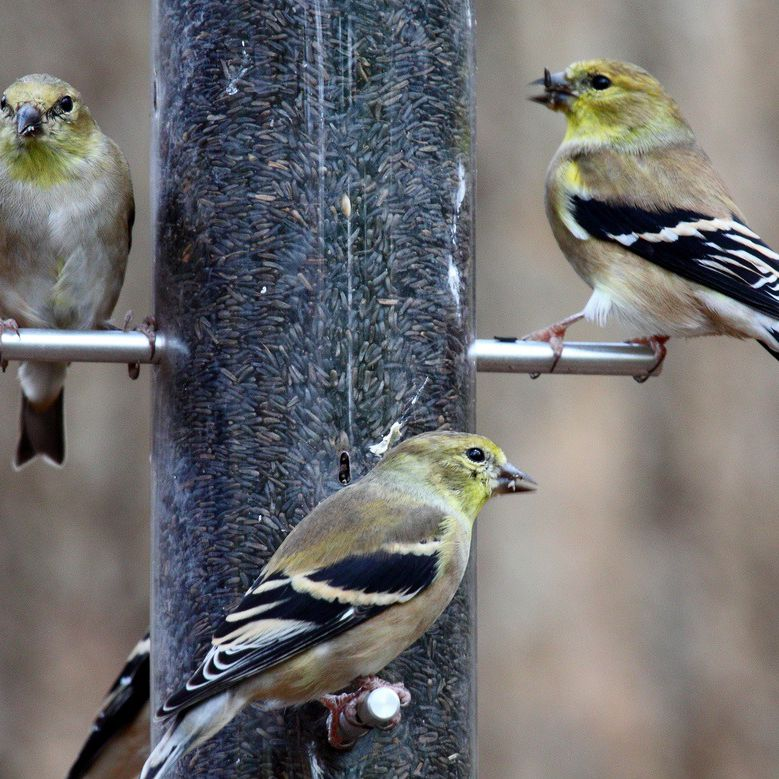bird: (139, 370, 541, 779), (502, 32, 779, 353), (1, 61, 139, 500), (49, 605, 151, 779)
